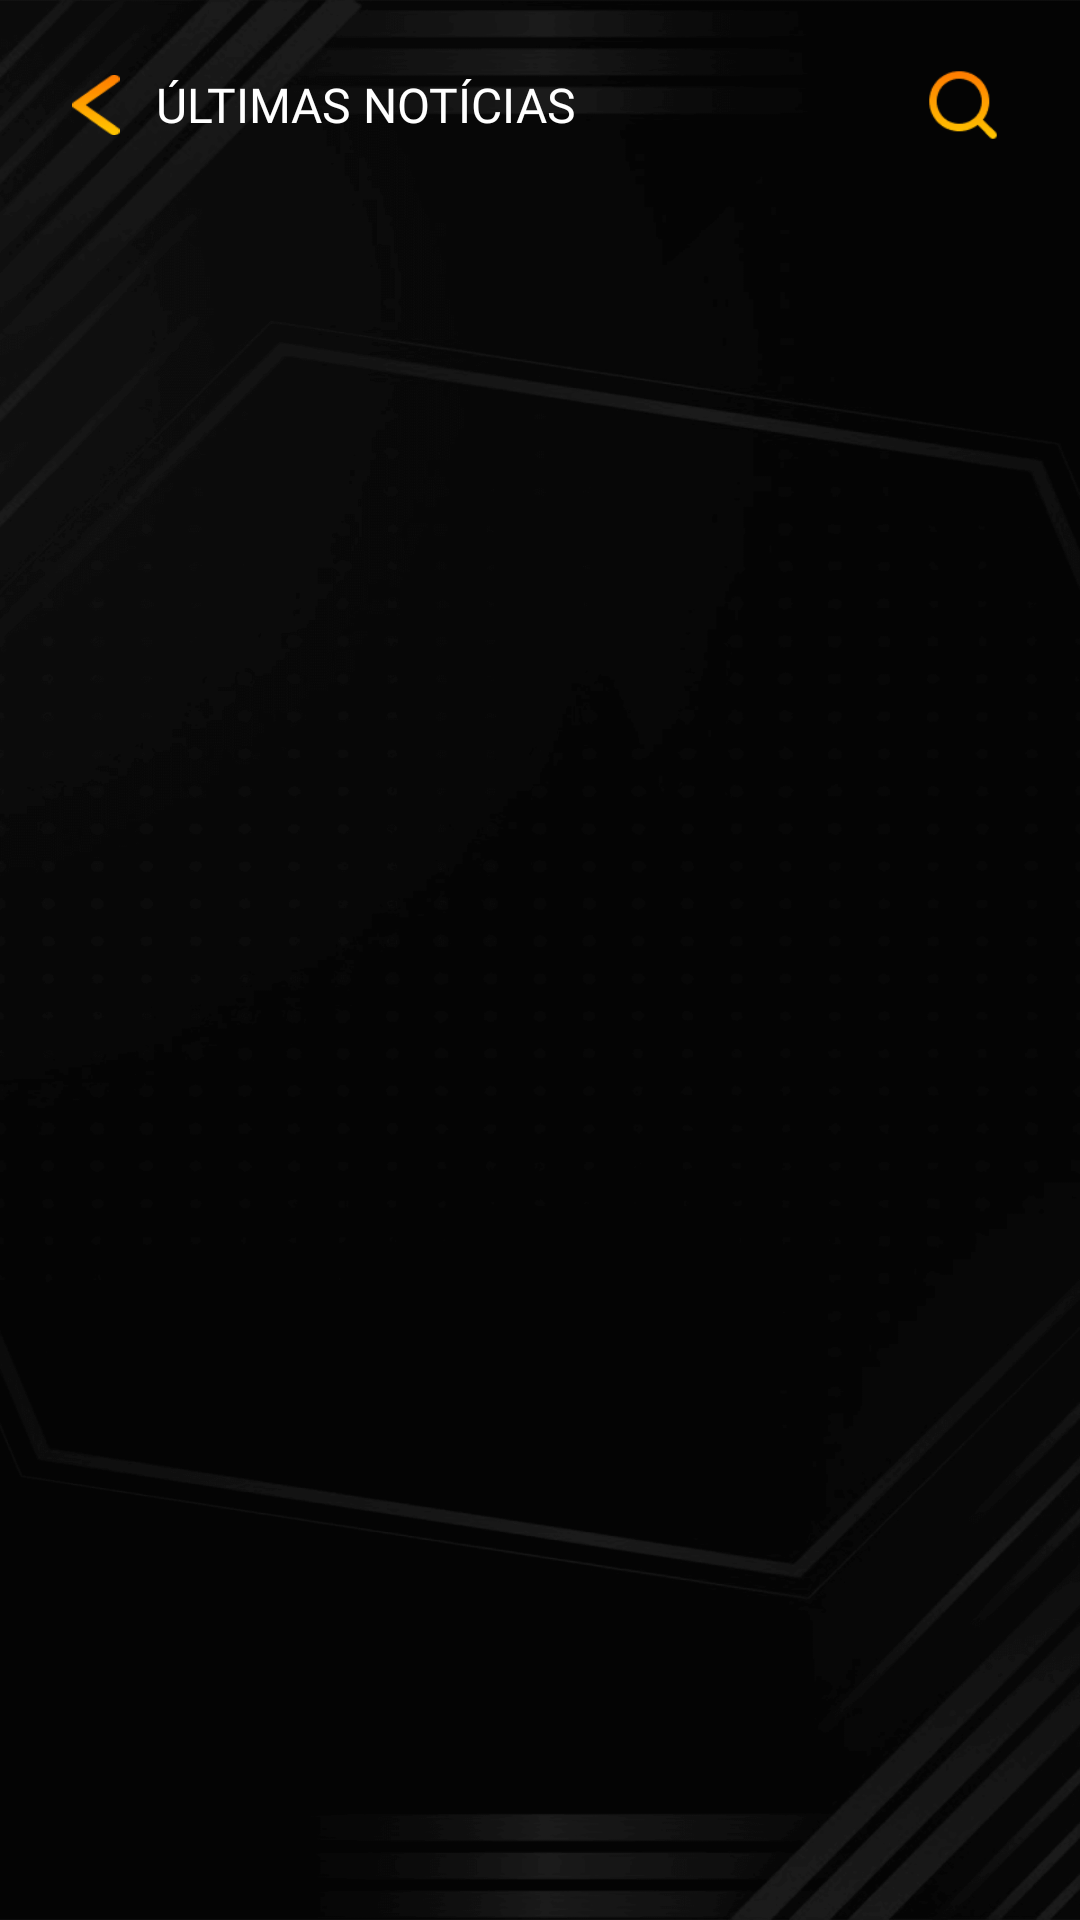

Point at icon controls on the screen. Image size 1080x1920, points as point (x, y).
back arrow kaverdarm: point (96, 105)
search kaverdarm: point (963, 105)
